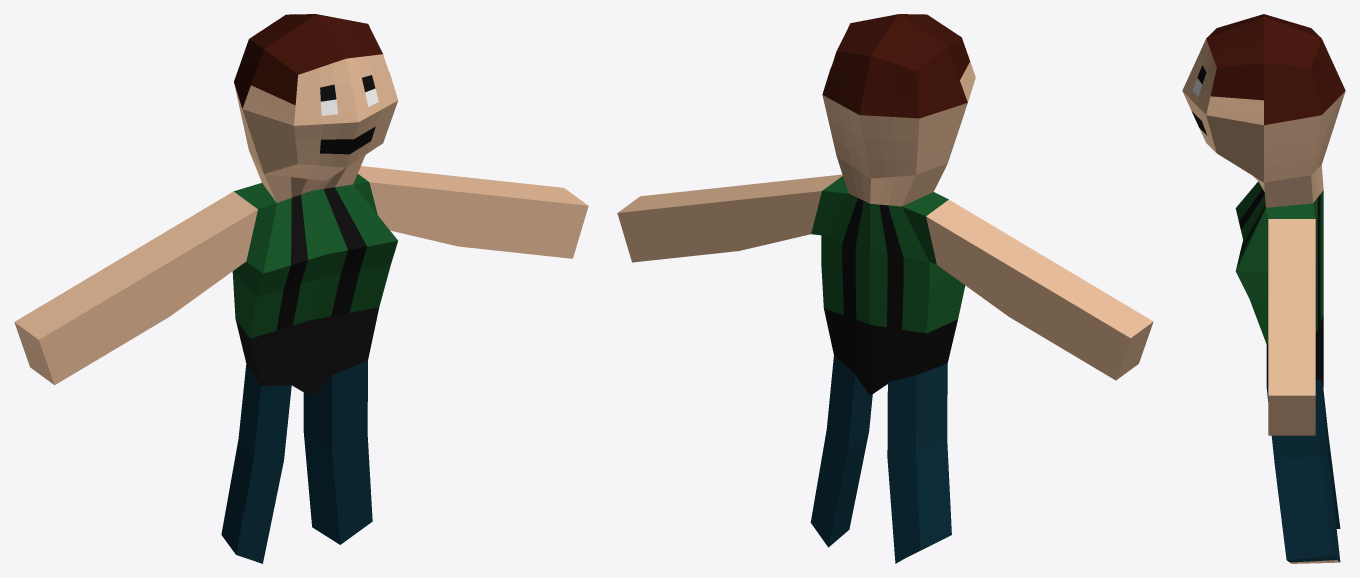
The model's file is Player Model.obj.
3 renders of one model, left to right at view 1: azimuth 30°, elevation 25°; view 2: azimuth 150°, elevation 25°; view 3: azimuth 270°, elevation 25°, orthographic. The views are drawn at different scales.
Parts seen in each view (by area): view 1: Player; view 2: Player; view 3: Player.
Boxes of the visible parts, x1,y1,x2,y2 form: Player: (14, 14, 588, 563); Player: (617, 14, 1153, 563); Player: (1182, 14, 1345, 563).
Size of the model in its own units: 1.94 by 1.86 by 0.5196.
